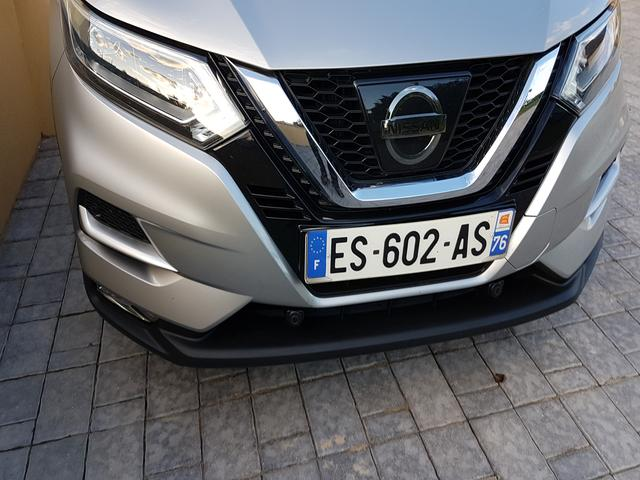Quashquai: (280, 191, 539, 282)
